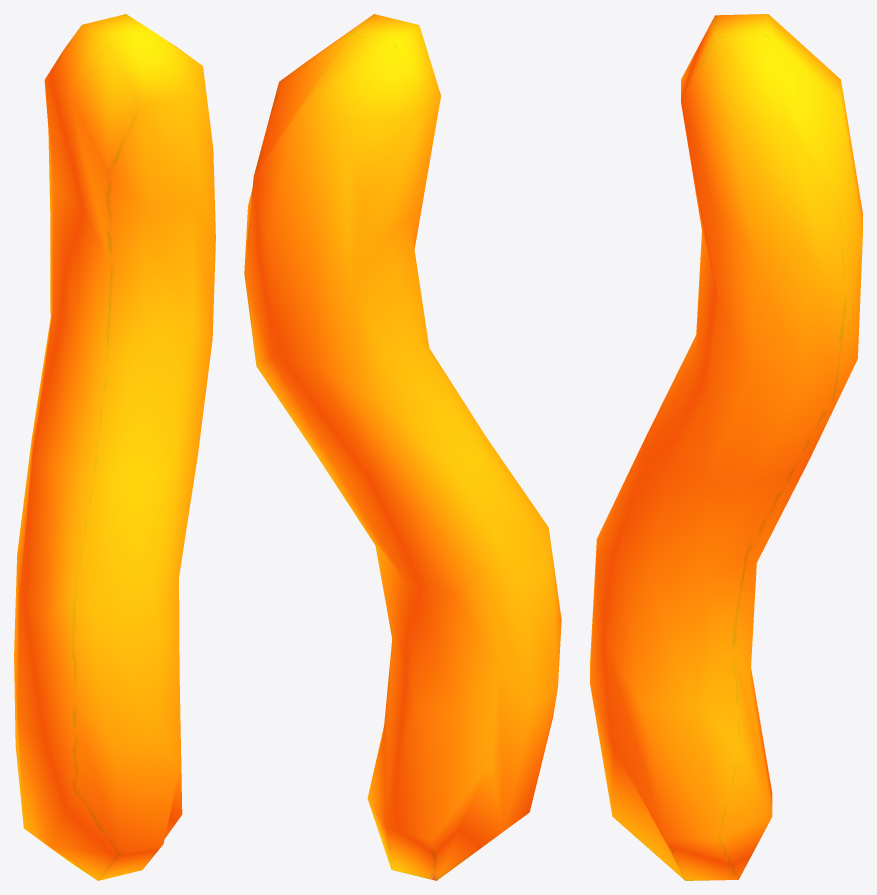
File: testtube.guy.fbx
3 renders of one model, left to right at view 1: azimuth 30°, elevation 25°; view 2: azimuth 150°, elevation 25°; view 3: azimuth 270°, elevation 25°, orthographic. The views are drawn at different scales.
Parts seen in each view (by area): view 1: bo.tube.lilguy DONE; view 2: bo.tube.lilguy DONE; view 3: bo.tube.lilguy DONE.
Boxes of the visible parts, <box> form: bo.tube.lilguy DONE: <box>14,14,215,880</box>; bo.tube.lilguy DONE: <box>244,14,561,880</box>; bo.tube.lilguy DONE: <box>590,14,862,880</box>.
Size of the model in its own units: 25.05 by 88.04 by 25.42.
